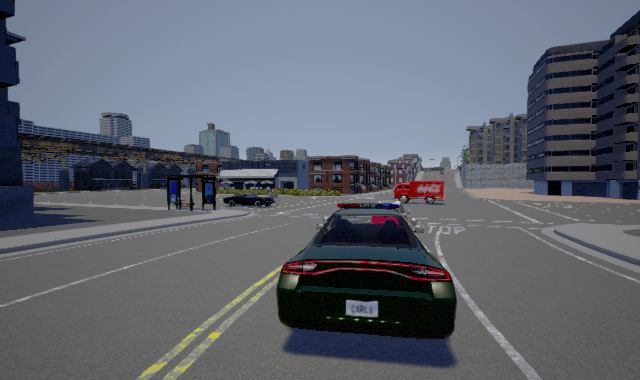vehicle: (276, 201, 458, 339), (392, 179, 449, 207), (223, 193, 278, 208)
